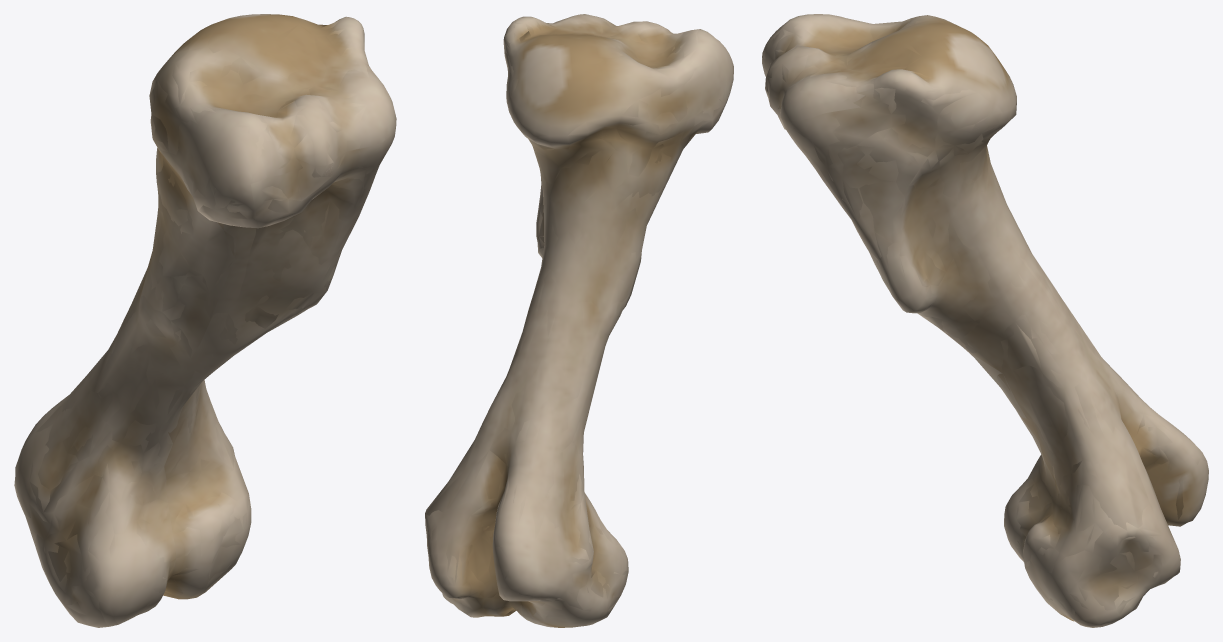
File: L Humerus.fbx
3 views of the same model, side by side, from view 1: azimuth 30°, elevation 25°; view 2: azimuth 150°, elevation 25°; view 3: azimuth 270°, elevation 25° (orthographic). The views are drawn at different scales.
Visible parts, largest first — view 1: L Humerus, L Humerus low; view 2: L Humerus, L Humerus low; view 3: L Humerus, L Humerus low.
Part boxes in pixels (<box>): L Humerus: <box>14,14,396,627</box>; L Humerus low: <box>15,16,394,626</box>; L Humerus: <box>425,14,733,627</box>; L Humerus low: <box>425,15,732,626</box>; L Humerus: <box>762,14,1208,627</box>; L Humerus low: <box>762,14,1208,626</box>.
Size of the model in its own units: 12.62 by 36.77 by 25.63.
Materials: 1 (1 with a texture image).
